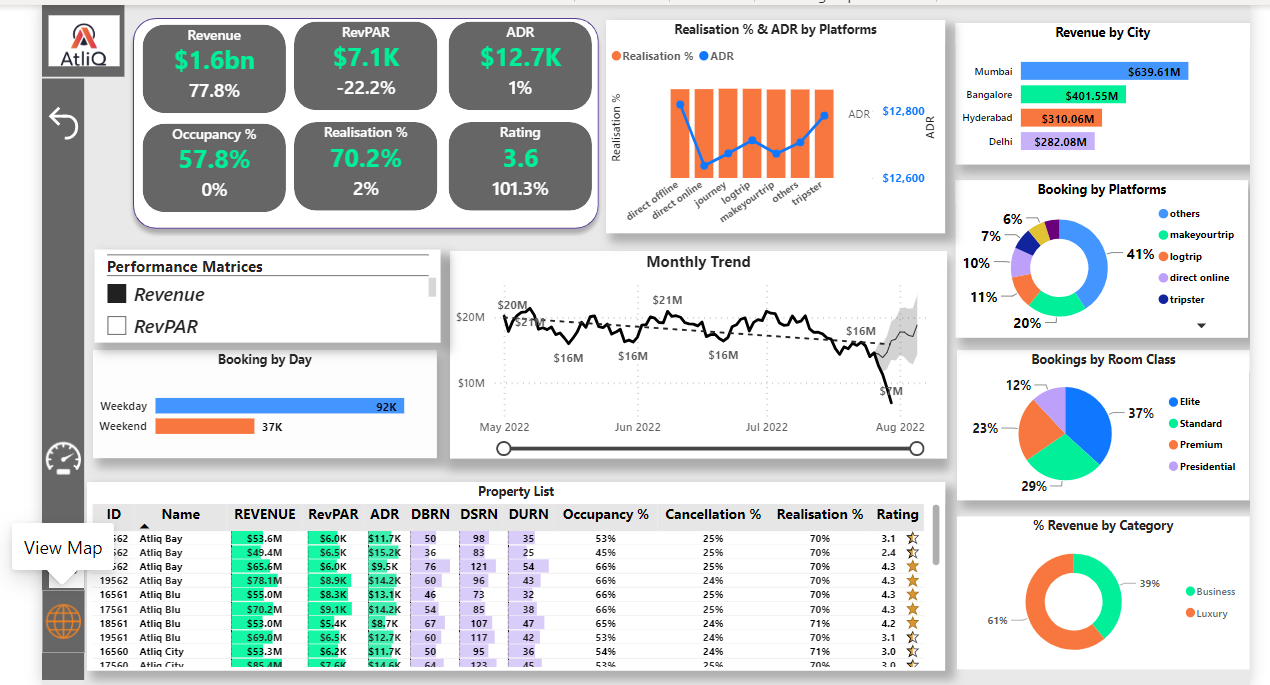

The dashboard page shown, as its layout file describes it:
{"tool":"powerbi","page":{"name":"Dashboard","canvas":[1280,720],"ordinal":0},"visuals":[{"type":"shape","title":"logo BG","box":[0,0,87.4,76.3],"z":0,"group":"g8"},{"type":"shape","title":"KPI paneWhite BG","box":[87.4,4.8,511.3,241.1],"z":0,"group":"g9"},{"type":"shape","title":"5card BG","box":[267,18.2,152.1,93.8],"z":0,"group":"g4"},{"type":"shape","title":"5card BG","box":[430.4,18.2,152.1,93.8],"z":0,"group":"g2"},{"type":"shape","title":"5card BG","box":[106.8,21.5,152.1,93.8],"z":0,"group":"g1"},{"type":"shape","title":"5card BG","box":[267,125,152.1,93.8],"z":0,"group":"g5"},{"type":"shape","title":"5card BG","box":[430.4,125,152.1,93.8],"z":0,"group":"g6"},{"type":"shape","title":"5card BG","box":[106.8,126.6,152.1,93.8],"z":0,"group":"g3"},{"type":"lineChart","title":"Monthly Trend","fields":{"Y":["All Measures.Revenue"],"Category":["dim_date.date.Variation.Date Hierarchy.Year","dim_date.date.Variation.Date Hierarchy.Month","dim_date.date.Variation.Date Hierarchy.Day"]},"box":[431.7,259.4,526.7,220],"z":0,"group":"g7"},{"type":"tableEx","title":"Property List","fields":{"Values":["dim_hotels.property_id","dim_hotels.property_name","All Measures.Revenue","All Measures.RevPAR","All Measures.ADR","All Measures.DBRN","All Measures.DSRN","All Measures.DURN","All Measures.Occupancy %","All Measures.Cancellation %","All Measures.Realisation %","All Measures.Average Rating"]},"box":[47.7,505.4,909.1,200.3],"z":0},{"type":"image","title":" # AtliQ Logo","box":[1.2,0.8,85.8,73.1],"z":1000,"group":"g8"},{"type":"group","id":"g1","title":"# KPI card","box":[106.8,21,152.1,95.5],"z":1000,"group":"g9"},{"type":"card","title":"Revenur WOW %","fields":{"Values":["All Measures.\"RevPAR WoW change %"]},"box":[267.5,64.6,152.1,46.9],"z":1000,"group":"g4"},{"type":"card","title":"Revenur WOW %","fields":{"Values":["All Measures.\"ADR WoW change %"]},"box":[430.9,64.6,152.1,46.9],"z":1000,"group":"g2"},{"type":"card","title":"Revenur WOW %","fields":{"Values":["All Measures.\"Revenue WoW change %"]},"box":[107.3,67.9,152.1,46.9],"z":1000,"group":"g1"},{"type":"card","title":"Rating ","fields":{"Values":["All Measures.Average Rating"]},"box":[430.9,124.5,152.1,56.6],"z":1000,"group":"g6"},{"type":"card","title":"Revenur WOW %","fields":{"Values":["All Measures.\"Realisation WoW change %"]},"box":[267.5,171.4,152.1,46.9],"z":1000,"group":"g5"},{"type":"card","title":"Revenur WOW %","fields":{"Values":["All Measures.\"Occupancy WoW change %"]},"box":[107.3,173,152.1,46.9],"z":1000,"group":"g3"},{"type":"slicer","fields":{"Values":["Booking Matrices.Booking Matrices"]},"box":[55,258.3,366.7,98.3],"z":1000,"group":"g7"},{"type":"card","title":"RevPAR","fields":{"Values":["All Measures.RevPAR"]},"box":[267.5,17.7,152.1,56.6],"z":2000,"group":"g4"},{"type":"group","id":"g2","title":"# KPI card","box":[430.4,17.7,152.1,95.5],"z":2000,"group":"g9"},{"type":"card","title":"ADR","fields":{"Values":["All Measures.ADR"]},"box":[430.9,17.7,152.1,56.6],"z":2000,"group":"g2"},{"type":"card","title":"Revenue","fields":{"Values":["All Measures.Revenue"]},"box":[107.3,21,152.1,56.6],"z":2000,"group":"g1"},{"type":"card","title":"Realisation %","fields":{"Values":["All Measures.Realisation %"]},"box":[267.5,124.5,152.1,56.6],"z":2000,"group":"g5"},{"type":"card","title":"Occupancy %","fields":{"Values":["All Measures.Occupancy %"]},"box":[107.3,126.1,152.1,56.6],"z":2000,"group":"g3"},{"type":"card","title":"Rating WOW %","fields":{"Values":["All Measures.\"Rating WoW change %"]},"box":[430.4,171.4,152.1,46.9],"z":2000,"group":"g6"},{"type":"pieChart","title":"Bookings by Room Class","fields":{"Category":["dim_rooms.room_class"],"Y":["All Measures.Total Bookings"]},"box":[968.9,365.6,309.8,159],"z":2000},{"type":"clusteredBarChart","title":"Revenue by City","fields":{"Category":["dim_hotels.city"],"Y":["All Measures.Revenue"]},"box":[967.9,22.3,311.5,149.4],"z":3000},{"type":"group","id":"g3","title":"# KPI card","box":[106.8,126.1,152.1,95.5],"z":3000,"group":"g9"},{"type":"group","id":"g4","title":"# KPI card","box":[267,17.7,152.1,95.5],"z":4000,"group":"g9"},{"type":"donutChart","title":"Booking by Platforms","fields":{"Category":["fact_bookings.booking_platform"],"Y":["All Measures.Total Bookings"]},"box":[969.5,182.8,309.9,166.9],"z":4000},{"type":"shape","title":"Navigation bar BG","box":[0,77.9,44.5,637.4],"z":5000},{"type":"group","id":"g5","title":"# KPI card","box":[267,124.5,152.1,95.5],"z":5000,"group":"g9"},{"type":"actionButton","title":"reset button ","box":[0,95.4,46.1,58.8],"z":6000},{"type":"group","id":"g6","title":"# KPI card","box":[430.4,124.5,152.6,94.4],"z":6000,"group":"g9"},{"type":"clusteredBarChart","title":"Booking by Day","fields":{"Y":["All Measures.Total Bookings"],"Category":["dim_date.Day Type #DAX"]},"box":[55.6,365.6,364,114.4],"z":7000},{"type":"actionButton","title":"navi pane - map icon ","box":[0,619.7,45.3,66.3],"z":8000},{"type":"actionButton","title":"navi pane - filter icon ","box":[0,550.2,45.3,48.5],"z":9000},{"type":"group","id":"g7","title":"# Trend line graph","box":[55,258.3,903.3,221.7],"z":10000},{"type":"lineStackedColumnComboChart","title":"Realisation % & ADR by Platforms","fields":{"Category":["fact_bookings.booking_platform"],"Y":["All Measures.Realisation %"],"Y2":["All Measures.ADR"]},"box":[598.4,16.4,359,226.2],"z":11000},{"type":"donutChart","title":"% Revenue by Category","fields":{"Category":["dim_hotels.category"],"Y":["All Measures.Revenue"]},"box":[968.9,542.6,309.8,162.3],"z":12000},{"type":"group","id":"g8","title":"# LOGO","box":[0,0,87.4,76.3],"z":13000},{"type":"group","id":"g9","title":"# KPIs","box":[87.4,4.8,511.8,240],"z":14000},{"type":"actionButton","box":[0,443.3,45,73.3],"z":17000}]}

Visuals, with their boxes on the page's 1280x720 design canvas (x1, y1, x2, y2). These are canvas units, not pixel positions in the 1270x685 screenshot, which may show the page scaled, cropped or inside an application window:
"logo BG" shape: {"left": 0, "top": 0, "right": 87, "bottom": 76}
"KPI paneWhite BG" shape: {"left": 87, "top": 5, "right": 599, "bottom": 246}
"5card BG" shape: {"left": 267, "top": 18, "right": 419, "bottom": 112}
"5card BG" shape: {"left": 430, "top": 18, "right": 582, "bottom": 112}
"5card BG" shape: {"left": 107, "top": 22, "right": 259, "bottom": 115}
"5card BG" shape: {"left": 267, "top": 125, "right": 419, "bottom": 219}
"5card BG" shape: {"left": 430, "top": 125, "right": 582, "bottom": 219}
"5card BG" shape: {"left": 107, "top": 127, "right": 259, "bottom": 220}
"Monthly Trend" lineChart: {"left": 432, "top": 259, "right": 958, "bottom": 479}
"Property List" tableEx: {"left": 48, "top": 505, "right": 957, "bottom": 706}
" # AtliQ Logo" image: {"left": 1, "top": 1, "right": 87, "bottom": 74}
"# KPI card" group: {"left": 107, "top": 21, "right": 259, "bottom": 116}
"Revenur WOW %" card: {"left": 268, "top": 65, "right": 420, "bottom": 112}
"Revenur WOW %" card: {"left": 431, "top": 65, "right": 583, "bottom": 112}
"Revenur WOW %" card: {"left": 107, "top": 68, "right": 259, "bottom": 115}
"Rating " card: {"left": 431, "top": 124, "right": 583, "bottom": 181}
"Revenur WOW %" card: {"left": 268, "top": 171, "right": 420, "bottom": 218}
"Revenur WOW %" card: {"left": 107, "top": 173, "right": 259, "bottom": 220}
slicer - Booking Matrices.Booking Matrices: {"left": 55, "top": 258, "right": 422, "bottom": 357}
"RevPAR" card: {"left": 268, "top": 18, "right": 420, "bottom": 74}
"# KPI card" group: {"left": 430, "top": 18, "right": 582, "bottom": 113}
"ADR" card: {"left": 431, "top": 18, "right": 583, "bottom": 74}
"Revenue" card: {"left": 107, "top": 21, "right": 259, "bottom": 78}
"Realisation %" card: {"left": 268, "top": 124, "right": 420, "bottom": 181}
"Occupancy %" card: {"left": 107, "top": 126, "right": 259, "bottom": 183}
"Rating WOW %" card: {"left": 430, "top": 171, "right": 582, "bottom": 218}
"Bookings by Room Class" pieChart: {"left": 969, "top": 366, "right": 1279, "bottom": 525}
"Revenue by City" clusteredBarChart: {"left": 968, "top": 22, "right": 1279, "bottom": 172}
"# KPI card" group: {"left": 107, "top": 126, "right": 259, "bottom": 222}
"# KPI card" group: {"left": 267, "top": 18, "right": 419, "bottom": 113}
"Booking by Platforms" donutChart: {"left": 970, "top": 183, "right": 1279, "bottom": 350}
"Navigation bar BG" shape: {"left": 0, "top": 78, "right": 44, "bottom": 715}
"# KPI card" group: {"left": 267, "top": 124, "right": 419, "bottom": 220}
"reset button " actionButton: {"left": 0, "top": 95, "right": 46, "bottom": 154}
"# KPI card" group: {"left": 430, "top": 124, "right": 583, "bottom": 219}
"Booking by Day" clusteredBarChart: {"left": 56, "top": 366, "right": 420, "bottom": 480}
"navi pane - map icon " actionButton: {"left": 0, "top": 620, "right": 45, "bottom": 686}
"navi pane - filter icon " actionButton: {"left": 0, "top": 550, "right": 45, "bottom": 599}
"# Trend line graph" group: {"left": 55, "top": 258, "right": 958, "bottom": 480}
"Realisation % & ADR by Platforms" lineStackedColumnComboChart: {"left": 598, "top": 16, "right": 957, "bottom": 243}
"% Revenue by Category" donutChart: {"left": 969, "top": 543, "right": 1279, "bottom": 705}
"# LOGO" group: {"left": 0, "top": 0, "right": 87, "bottom": 76}
"# KPIs" group: {"left": 87, "top": 5, "right": 599, "bottom": 245}
actionButton: {"left": 0, "top": 443, "right": 45, "bottom": 517}
